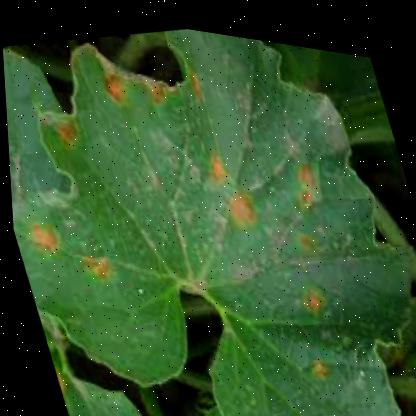AlternariaBrassicicola: (9, 198, 71, 280), (86, 59, 141, 129), (212, 174, 263, 241), (66, 229, 116, 292), (40, 108, 86, 165), (289, 333, 332, 386), (290, 271, 332, 323), (287, 144, 318, 184)
